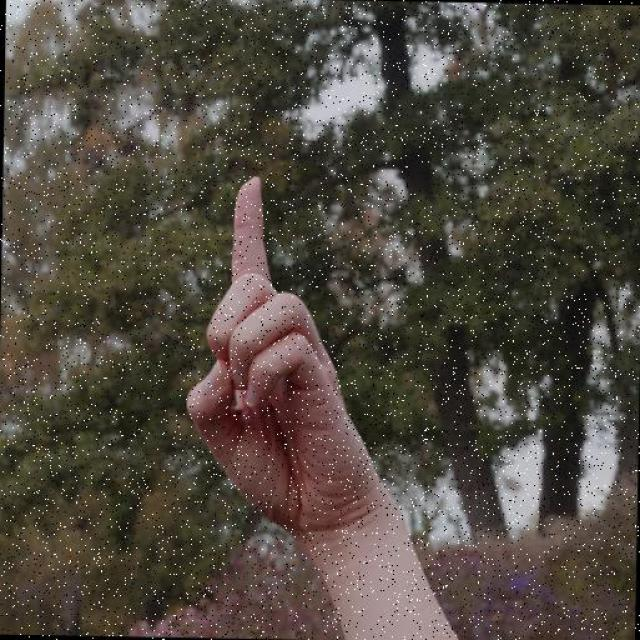D: (182, 166, 401, 539)
